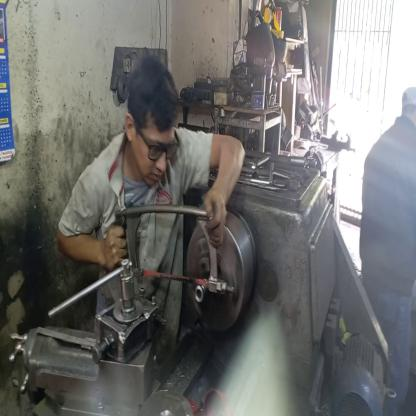lentes: (132, 120, 180, 170)
